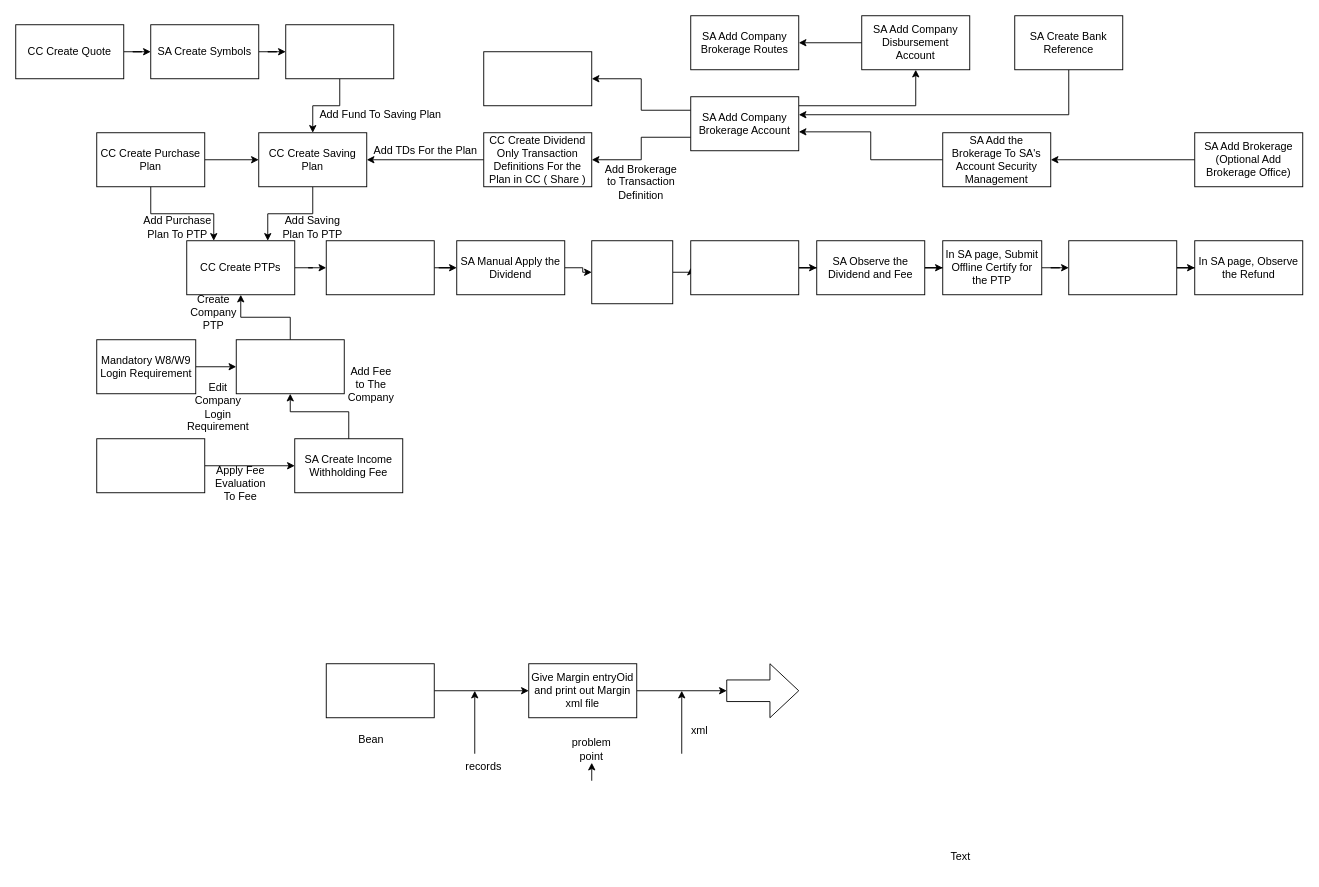
The diagram is 1319 pixels wide and 887 high, and some of its shapes have lost their labels. Here are the shapes that lost their labels. From the top down, the box of each, then its label:
(285, 24, 394, 79): SA Create New Fund
(483, 51, 592, 106): SA Add Brokerage to Company Fund ( Award)
(325, 240, 434, 295): SA Add Dividend For New Created Fund
(591, 240, 673, 304): SA Split the Transaction
(690, 240, 799, 295): SA Adjust the Transaction
(1068, 240, 1177, 295): In SA page, Run Refund Script or Refund Schedule Job
(235, 339, 344, 394): SA Find A Company
(96, 438, 205, 493): SA Create Income Withholding Fee Evaluation
(325, 663, 434, 718): Query Database get record
